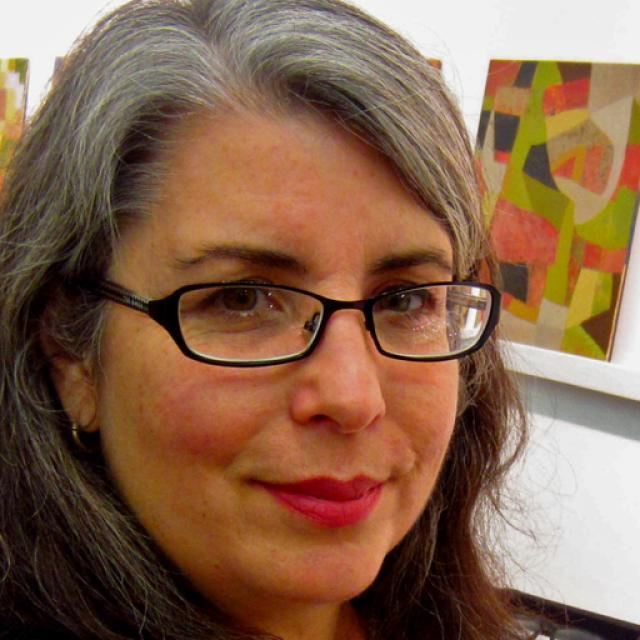content: (101, 108, 464, 602)
